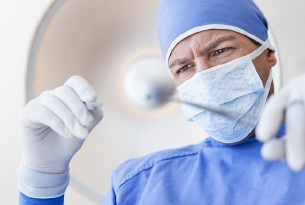Mask: (167, 33, 278, 144)
